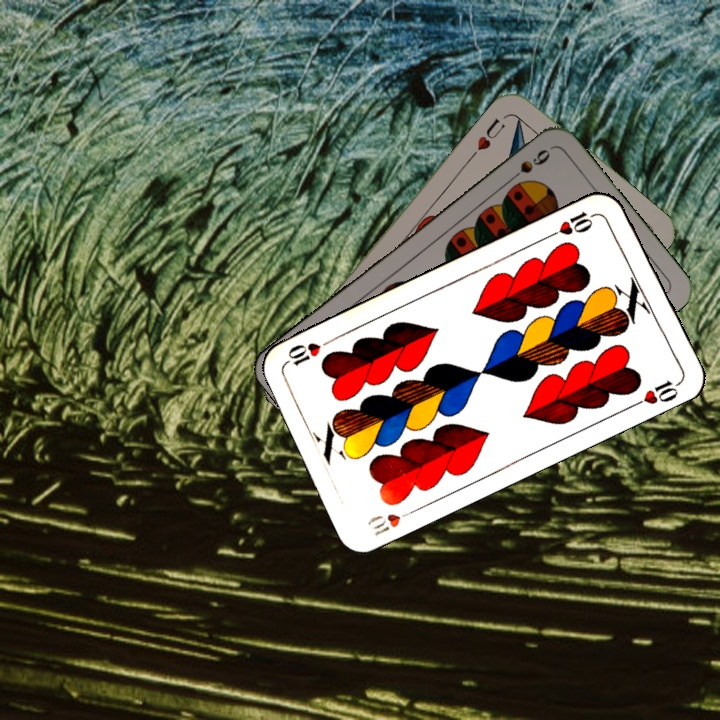H10: (363, 504, 420, 539), (544, 207, 600, 241)
HU: (467, 114, 508, 160)
S9: (503, 144, 553, 186)
